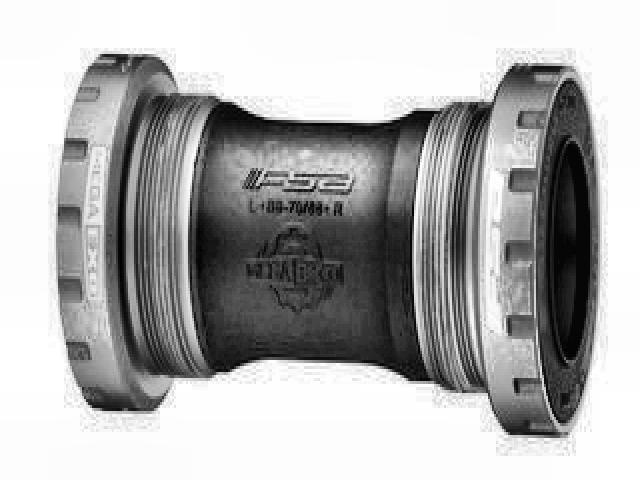bottom_bracket: (56, 49, 604, 444)
